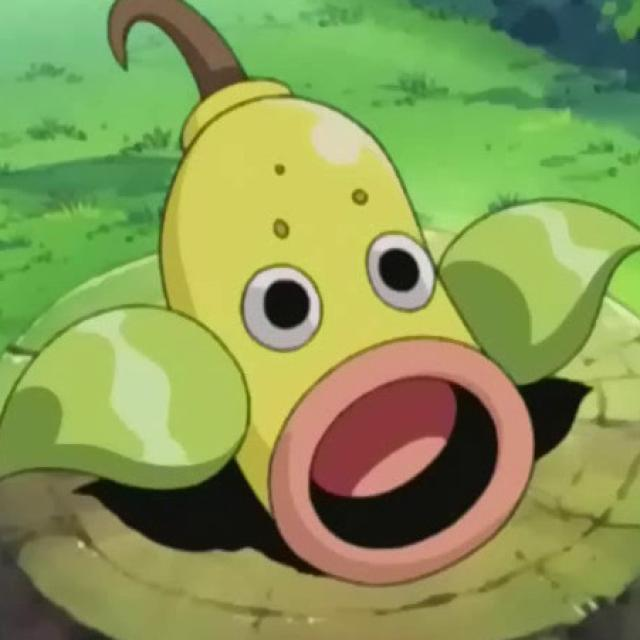Weepinbell: (152, 80, 533, 580)
